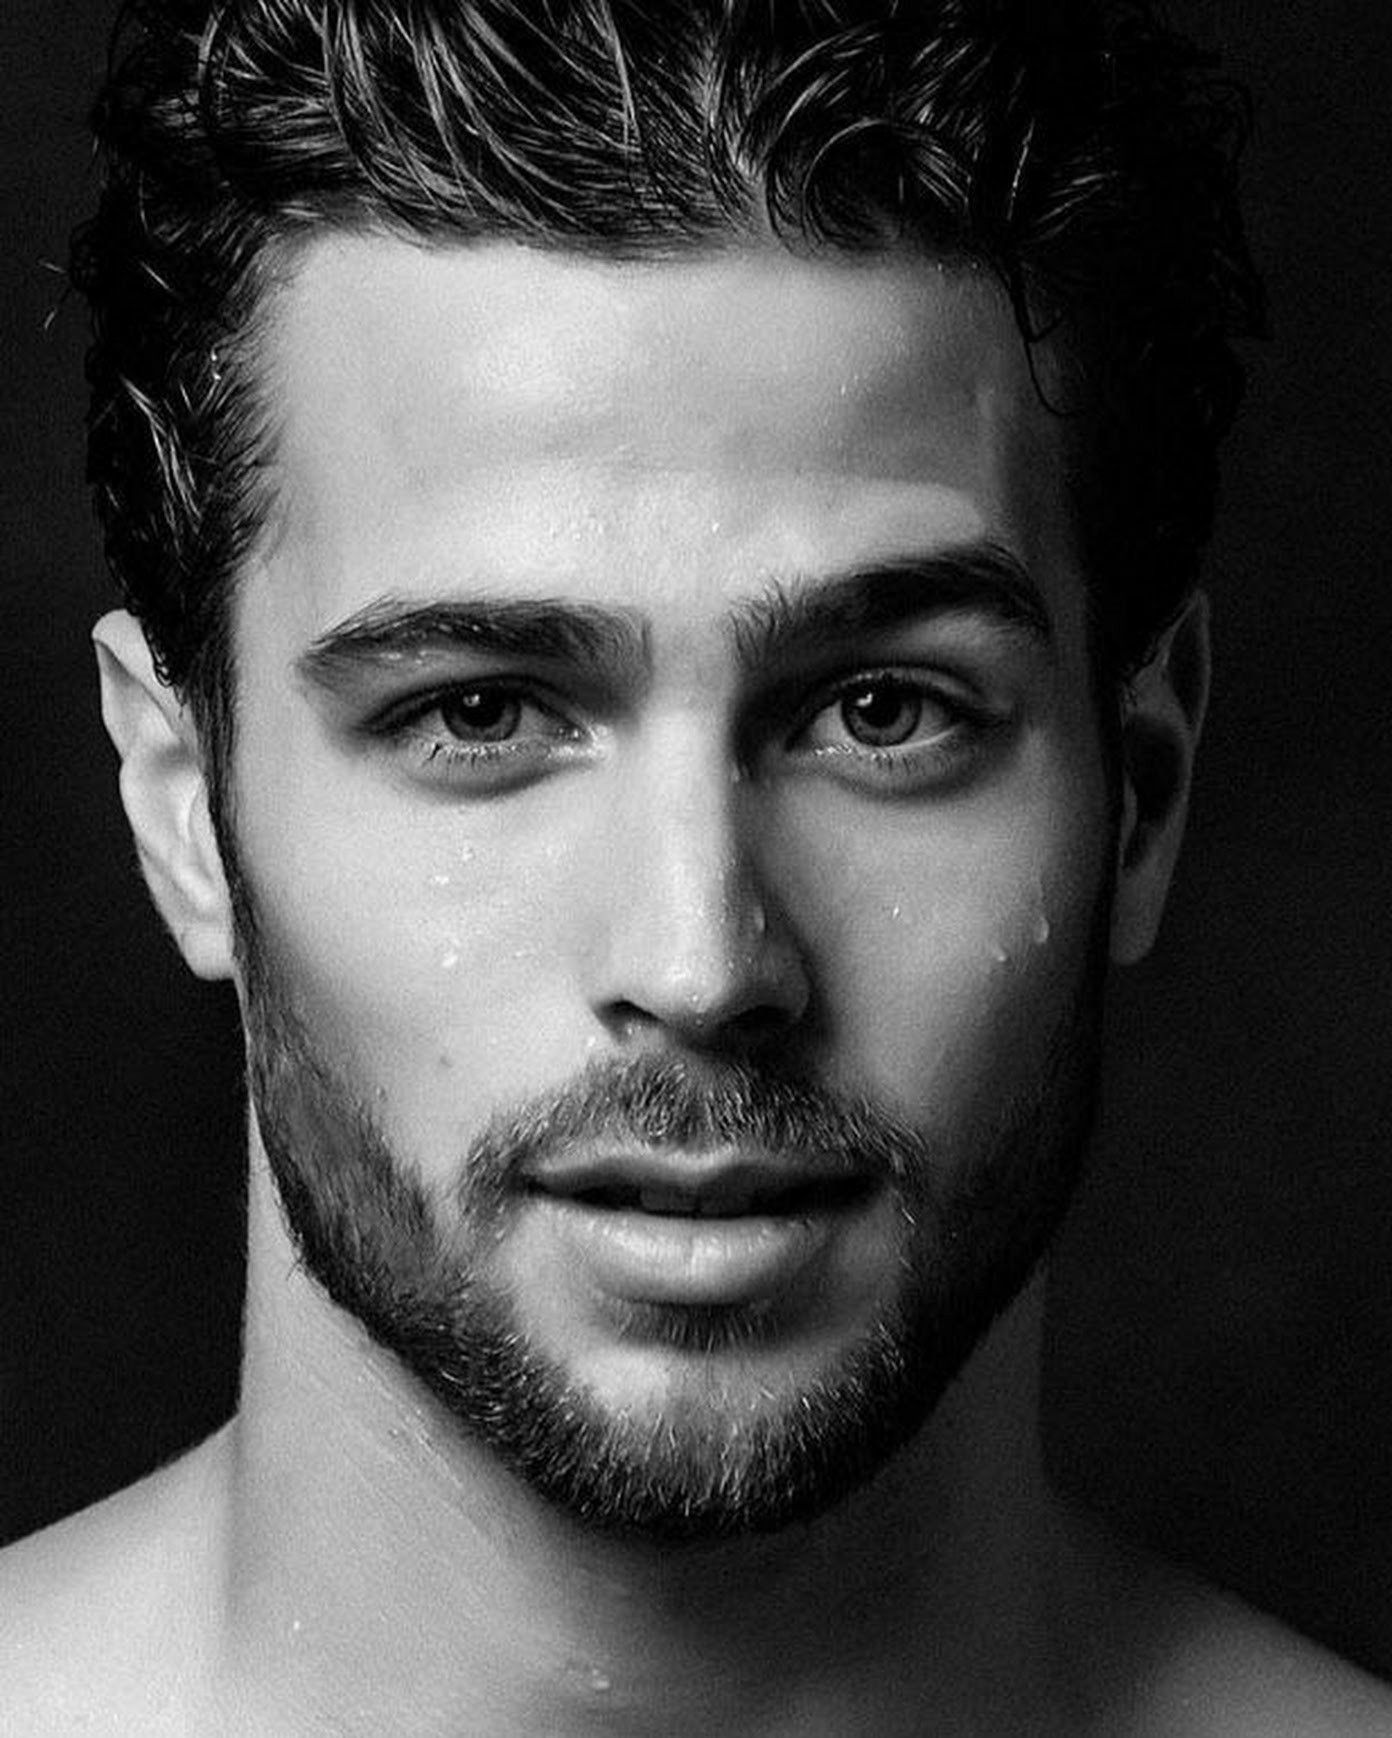no_mask: (52, 54, 1275, 1599)
